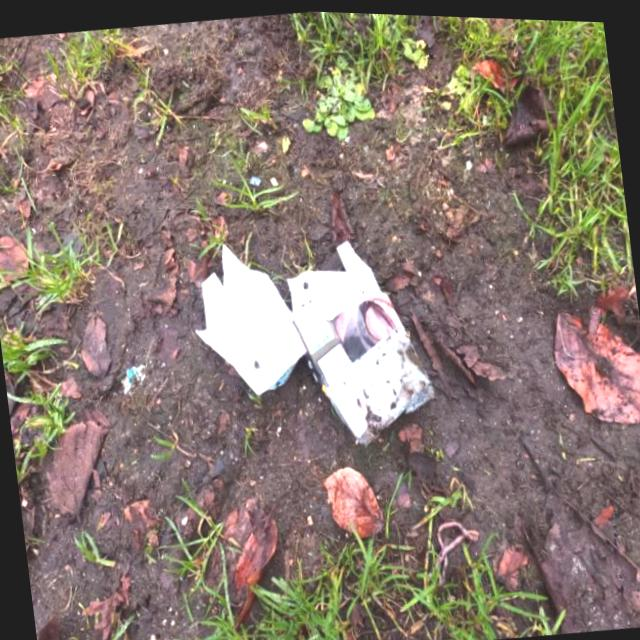Paper: (178, 211, 448, 470)
